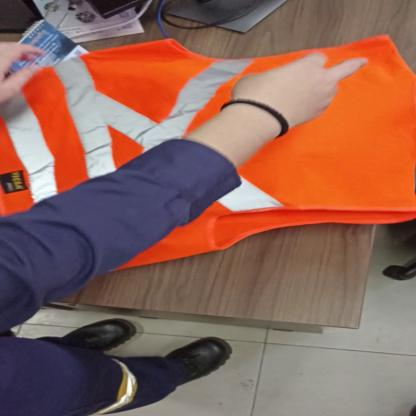colete: (0, 39, 416, 271)
